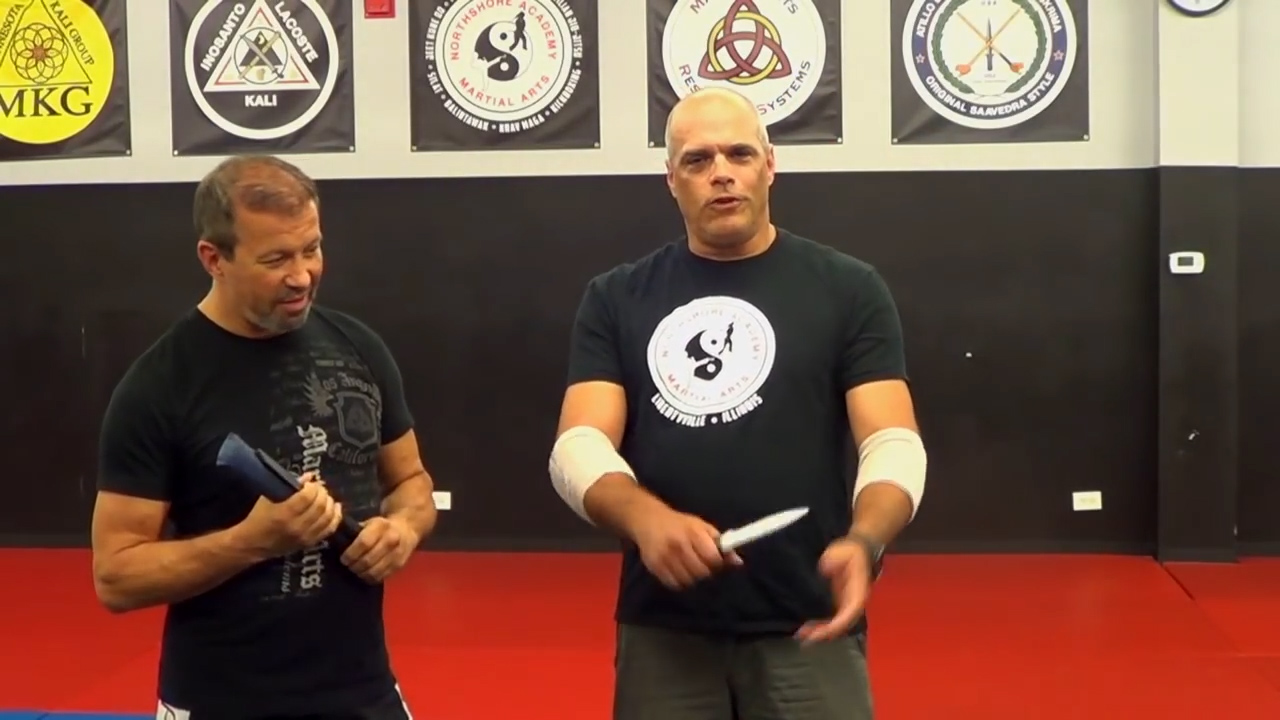knife: (652, 501, 816, 592)
